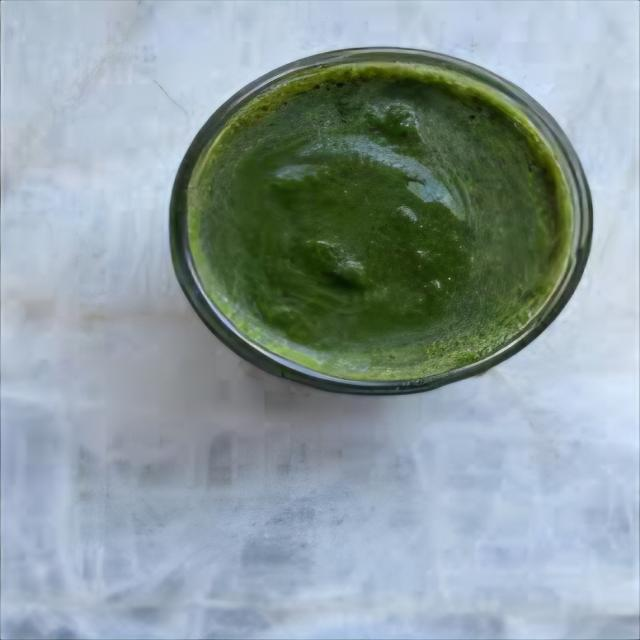GREEN CHUTNEY: (170, 48, 592, 394)
